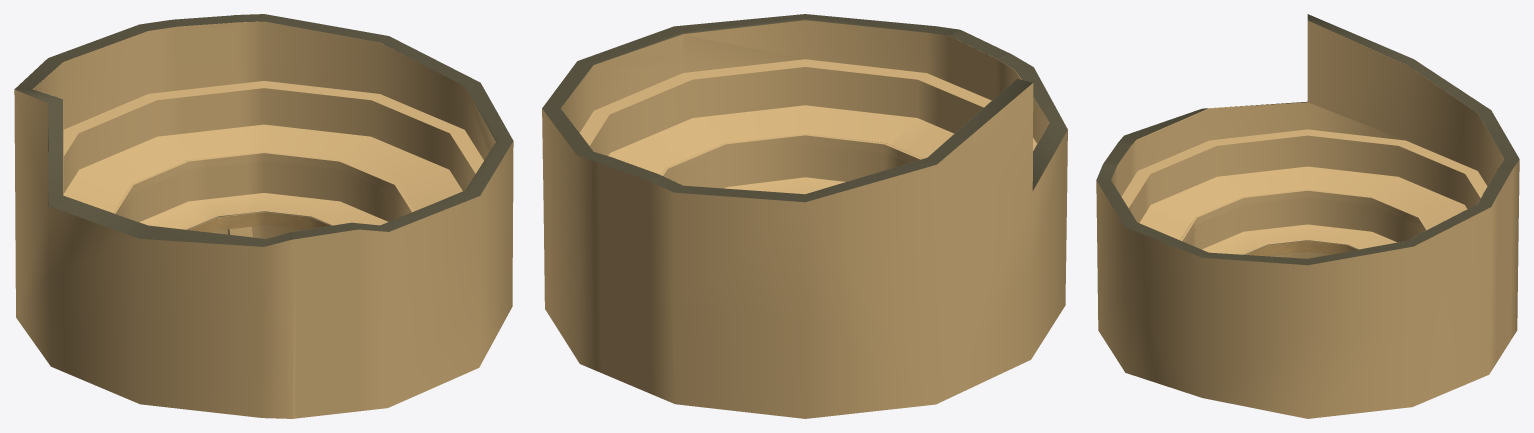
Rendered from Arena3.fbx.
The picture shows the model from 3 angles, left to right: view 1: azimuth 30°, elevation 25°; view 2: azimuth 150°, elevation 25°; view 3: azimuth 270°, elevation 25°; orthographic projection. The views are drawn at different scales.
Parts seen in each view (by area): view 1: Arena; view 2: Arena; view 3: Arena.
Boxes of the visible parts, x1,y1,x2,y2 form: Arena: (14, 14, 513, 418); Arena: (542, 14, 1067, 418); Arena: (1096, 14, 1519, 418).
Bounding box in the file's own units: 11947 × 7056 × 11934.
